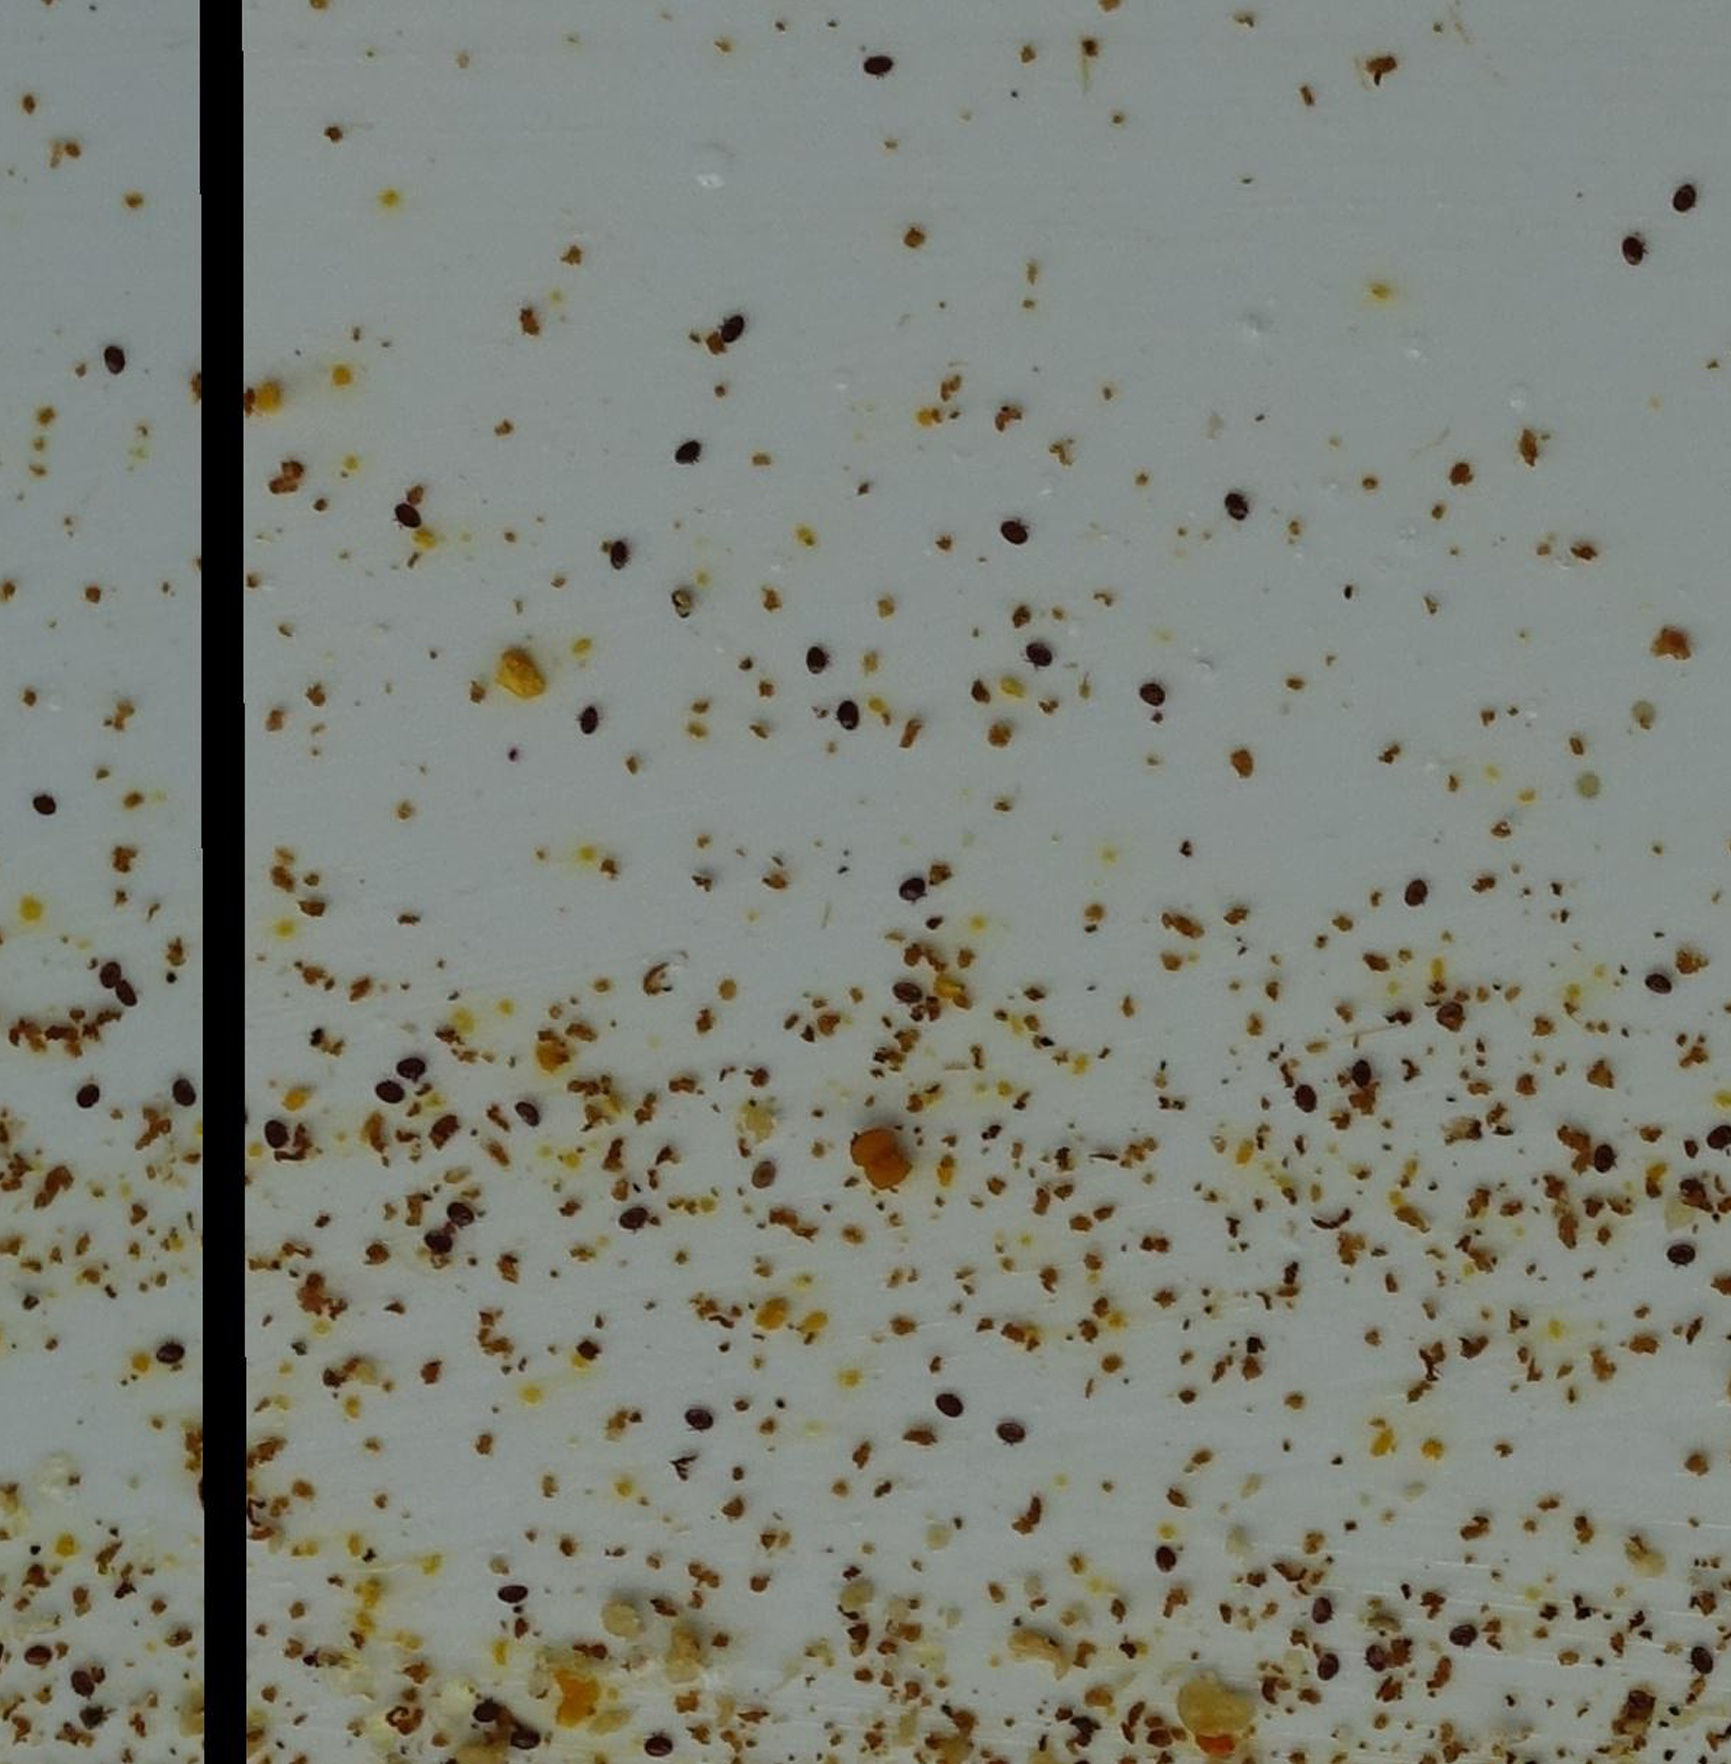Varroa: (105, 972, 149, 1014), (504, 1716, 548, 1759), (1362, 1647, 1395, 1685), (472, 1701, 506, 1734), (932, 1392, 964, 1426), (100, 967, 132, 1002), (671, 441, 702, 474), (861, 48, 894, 79), (262, 1119, 288, 1157), (1400, 880, 1431, 911), (718, 311, 750, 342), (1346, 1063, 1378, 1095), (1680, 1179, 1712, 1211), (371, 1075, 403, 1106), (1664, 1244, 1695, 1276), (98, 346, 128, 377), (1140, 682, 1170, 713), (1026, 639, 1056, 670), (1618, 236, 1649, 268), (24, 1645, 55, 1675), (1687, 1640, 1717, 1672), (897, 878, 927, 908), (606, 537, 636, 567), (801, 647, 831, 677), (992, 1415, 1022, 1445), (396, 1056, 426, 1086), (575, 705, 606, 735), (157, 1336, 185, 1368), (999, 518, 1027, 548), (1671, 182, 1699, 212), (894, 979, 923, 1010), (70, 1669, 98, 1699), (685, 1403, 713, 1433), (426, 1225, 457, 1254), (835, 702, 864, 731), (617, 1200, 645, 1228), (748, 1162, 777, 1190), (75, 1084, 103, 1113), (1435, 1002, 1463, 1030), (1642, 970, 1671, 998), (1587, 1147, 1615, 1176), (1221, 491, 1249, 520), (447, 1203, 476, 1231), (1446, 1617, 1473, 1647), (1293, 1084, 1320, 1114), (29, 792, 55, 823), (395, 502, 422, 531), (1308, 1596, 1335, 1625), (518, 1098, 545, 1125), (1313, 1659, 1339, 1686), (499, 1582, 526, 1607), (1149, 1548, 1175, 1575), (165, 1081, 189, 1108)
